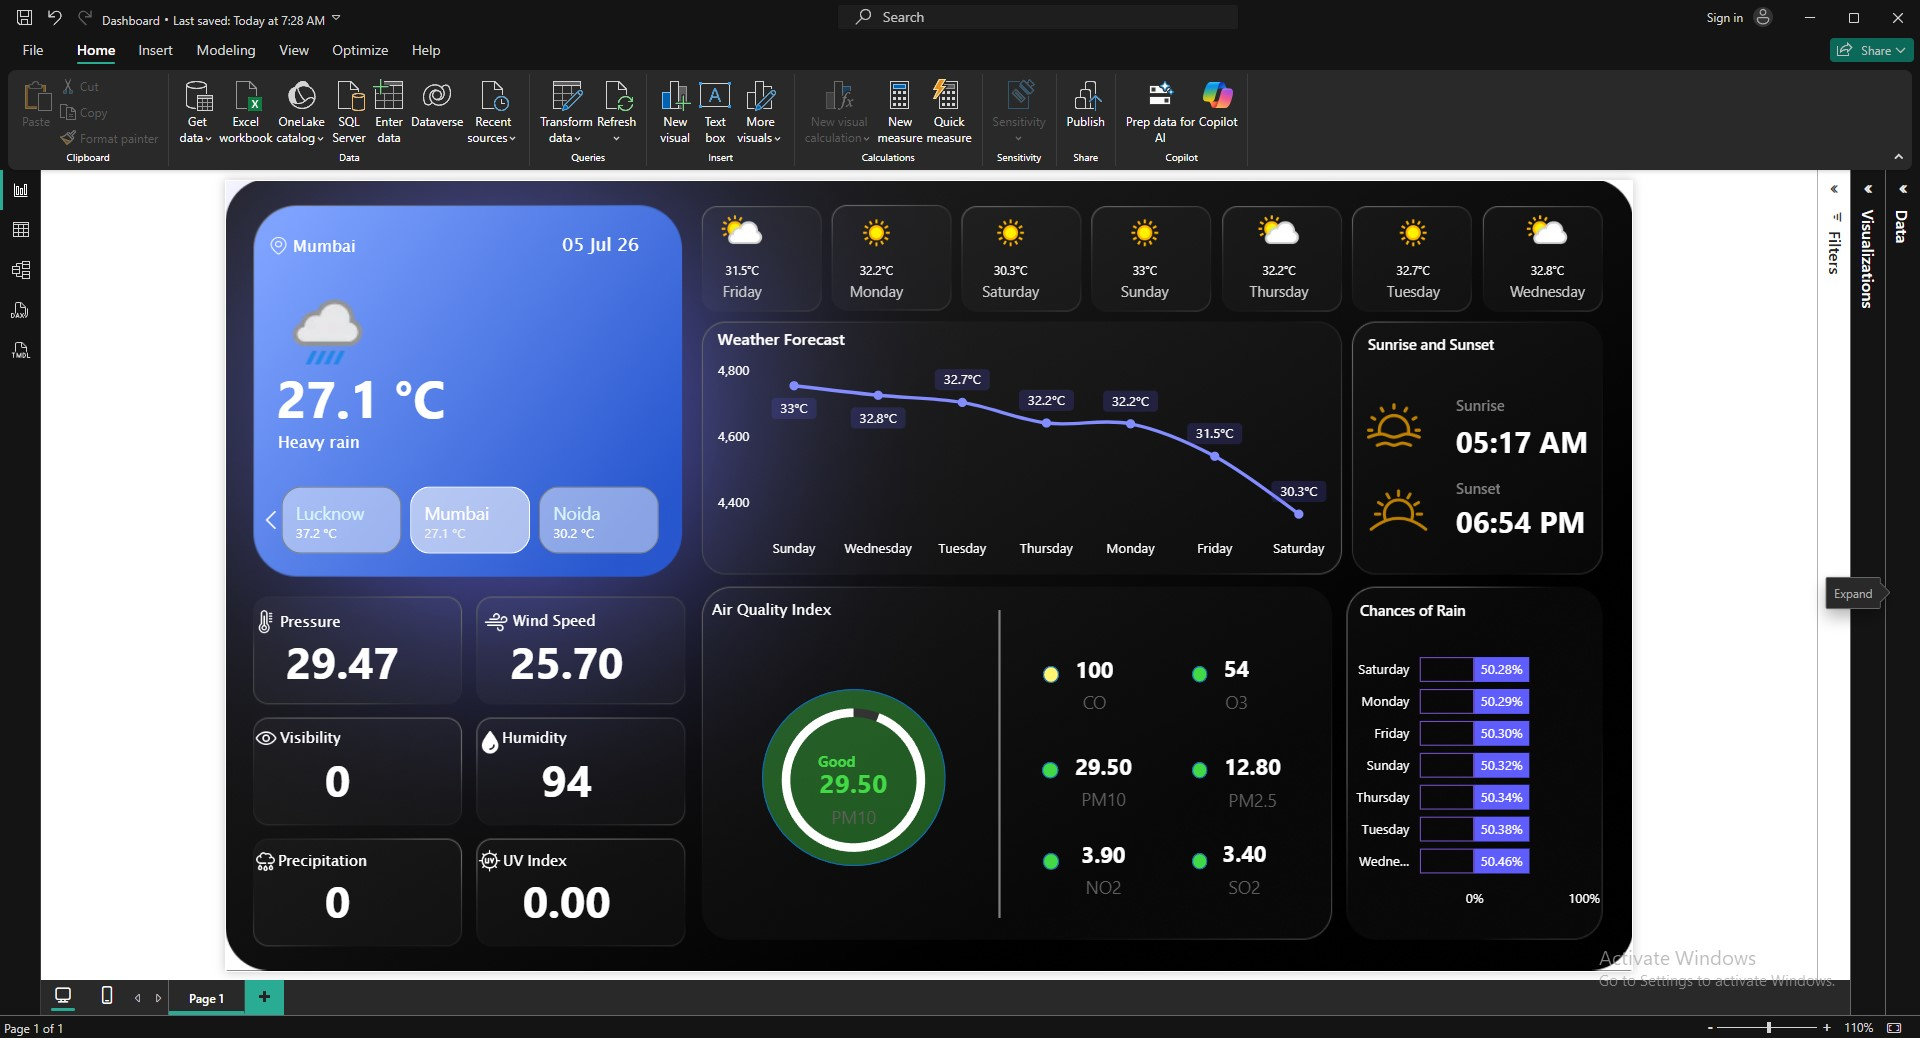

The page's visual inventory and layout, read from the dashboard file:
{"tool":"powerbi","page":{"name":"Page 1","canvas":[1280,720],"ordinal":0},"visuals":[{"type":"shape","box":[488,463,167,161],"z":0},{"type":"advancedSlicerVisual","fields":{"Values":["Current.location.name"]},"box":[26,274,394,71],"z":1000},{"type":"shape","box":[47.5,150,193.8,93.8],"z":2000},{"type":"shape","box":[47.8,222.2,281.1,34.4],"z":3000},{"type":"shape","box":[306.7,42.2,85.6,35.6],"z":4000},{"type":"shape","box":[62.2,43.3,281.1,34.4],"z":5000},{"type":"image","box":[37.9,52.1,20.7,16.4],"z":6000},{"type":"cardVisual","fields":{"Data":["Min(Current.current.condition.icon)"]},"box":[37.8,0,110,185.6],"z":7000},{"type":"image","box":[26.4,390,21.4,23.6],"z":8000},{"type":"shape","box":[50,384.4,61.1,35.6],"z":9000},{"type":"image","box":[235,390,22.1,23.6],"z":10000},{"type":"image","box":[230,499,21.9,23.8],"z":11000},{"type":"image","box":[26.7,495.7,21.9,23.3],"z":12000},{"type":"image","box":[26.4,607.9,21.4,23.6],"z":13000},{"type":"image","box":[230,607.6,21.4,23.3],"z":14000},{"type":"shape","box":[261.5,383.8,90.8,35.4],"z":15000},{"type":"shape","box":[251.5,490,90.8,35.4],"z":16000},{"type":"shape","box":[50,490,60.8,35.4],"z":17000},{"type":"shape","box":[252.3,601.5,90.8,35.4],"z":18000},{"type":"shape","box":[48.5,601.5,83.1,35.4],"z":19000},{"type":"card","fields":{"Values":["Sum(Current.current.pressure_in)"]},"box":[38.2,408.9,136.8,57.5],"z":20000},{"type":"card","fields":{"Values":["Sum(Current.current.wind_mph)"]},"box":[246.2,408.8,128.8,57.5],"z":21000},{"type":"card","fields":{"Values":["Sum(Current.current.vis_miles)"]},"box":[38.2,516.4,128.6,57.9],"z":22000},{"type":"card","fields":{"Values":["Sum(Current.current.humidity)"]},"box":[246.1,516.4,128.6,57.9],"z":23000},{"type":"card","fields":{"Values":["Sum(Current.current.uv)"]},"box":[246.8,626.1,128.6,57.9],"z":24000},{"type":"card","fields":{"Values":["Sum(Current.current.precip_in)"]},"box":[38.6,626.1,128.6,57.9],"z":25000},{"type":"advancedSlicerVisual","fields":{"Values":["Forecast_Day.Day_Name"]},"box":[408.2,20,856.4,115.5],"z":26000},{"type":"lineChart","title":"Weather Forecast","fields":{"Category":["Forecast_Day.Day_Name"],"Y":["Sum(Forecast_Day.forecast.forecastday.day.avgtemp_c)"]},"box":[442.7,133.6,569.1,219.1],"z":27000},{"type":"shape","box":[1038.8,131.2,160,36.2],"z":28000},{"type":"shape","box":[1118.8,216.2,125,41.2],"z":29000},{"type":"shape","box":[1118.8,290,122.5,40],"z":30000},{"type":"shape","box":[1118.8,187.5,161.2,35],"z":31000},{"type":"shape","box":[1118.9,262.6,161.1,34.7],"z":32000},{"type":"image","box":[1038.2,187.3,49.1,71.8],"z":33000},{"type":"image","box":[1032,259.5,69.5,82],"z":34000},{"type":"hundredPercentStackedBarChart","title":"Chances of Rain","fields":{"Category":["Forecast_Day.Day_Name"],"Y":["Sum(Forecast_Day.forecast.forecastday.day.daily_chance_of_rain)","_Measures.Left_value_Rainn"]},"box":[1011.8,409,243.4,262.5],"z":35000},{"type":"shape","box":[442.5,373.8,128.8,35],"z":36000},{"type":"card","fields":{"Values":["Sum(Current.current.air_quality.co)"]},"box":[750,423.6,80.9,66.4],"z":37000},{"type":"card","fields":{"Values":["Sum(Current.current.air_quality.o3)"]},"box":[879,424,81,66],"z":38000},{"type":"card","fields":{"Values":["Sum(Current.current.air_quality.pm10)"]},"box":[758.2,511.8,80.9,66.4],"z":39000},{"type":"card","fields":{"Values":["Sum(Current.current.air_quality.no2)"]},"box":[758.2,591.8,80.9,66.4],"z":40000},{"type":"card","fields":{"Values":["Sum(Current.current.air_quality.pm2_5)"]},"box":[894,512,81,67],"z":41000},{"type":"card","fields":{"Values":["Sum(Current.current.air_quality.so2)"]},"box":[886,592,81,66],"z":42000},{"type":"shape","box":[742.5,529.2,15,15],"z":43000},{"type":"shape","box":[743.6,441.8,14.5,15.5],"z":44000},{"type":"shape","box":[743.6,611.8,14.5,15.5],"z":45000},{"type":"shape","box":[879,529,14,15],"z":46000},{"type":"shape","box":[879,612,14,15],"z":47000},{"type":"shape","box":[879,442,14,15],"z":48000},{"type":"shape","box":[629,391,150,280],"z":49000},{"type":"card","fields":{"Values":["Sum(Current.current.air_quality.pm10)"]},"box":[531,526,81,66],"z":50000},{"type":"donutChart","fields":{"Y":["Sum(Current.current.air_quality.pm10)","_Measures.Left_value_PM10"]},"box":[462,459,219,173],"z":51000},{"type":"shape","box":[539,517,73,20],"z":52000},{"type":"shape","box":[1032.1,374.1,113.8,34.9],"z":52001}]}

Visuals, with their boxes on the page's 1280x720 design canvas (x1, y1, x2, y2). These are canvas units, not pixel positions in the 1920x1038 screenshot, which may show the page scaled, cropped or inside an application window:
shape: box(488, 463, 655, 624)
advancedSlicerVisual - Current.location.name: box(26, 274, 420, 345)
shape: box(48, 150, 241, 244)
shape: box(48, 222, 329, 257)
shape: box(307, 42, 392, 78)
shape: box(62, 43, 343, 78)
image: box(38, 52, 59, 68)
cardVisual - Min(Current.current.condition.icon): box(38, 0, 148, 186)
image: box(26, 390, 48, 414)
shape: box(50, 384, 111, 420)
image: box(235, 390, 257, 414)
image: box(230, 499, 252, 523)
image: box(27, 496, 49, 519)
image: box(26, 608, 48, 632)
image: box(230, 608, 251, 631)
shape: box(262, 384, 352, 419)
shape: box(252, 490, 342, 525)
shape: box(50, 490, 111, 525)
shape: box(252, 602, 343, 637)
shape: box(48, 602, 132, 637)
card - Sum(Current.current.pressure_in): box(38, 409, 175, 466)
card - Sum(Current.current.wind_mph): box(246, 409, 375, 466)
card - Sum(Current.current.vis_miles): box(38, 516, 167, 574)
card - Sum(Current.current.humidity): box(246, 516, 375, 574)
card - Sum(Current.current.uv): box(247, 626, 375, 684)
card - Sum(Current.current.precip_in): box(39, 626, 167, 684)
advancedSlicerVisual - Forecast_Day.Day_Name: box(408, 20, 1265, 136)
"Weather Forecast" lineChart: box(443, 134, 1012, 353)
shape: box(1039, 131, 1199, 167)
shape: box(1119, 216, 1244, 257)
shape: box(1119, 290, 1241, 330)
shape: box(1119, 188, 1280, 222)
shape: box(1119, 263, 1280, 297)
image: box(1038, 187, 1087, 259)
image: box(1032, 260, 1102, 342)
"Chances of Rain" hundredPercentStackedBarChart: box(1012, 409, 1255, 672)
shape: box(442, 374, 571, 409)
card - Sum(Current.current.air_quality.co): box(750, 424, 831, 490)
card - Sum(Current.current.air_quality.o3): box(879, 424, 960, 490)
card - Sum(Current.current.air_quality.pm10): box(758, 512, 839, 578)
card - Sum(Current.current.air_quality.no2): box(758, 592, 839, 658)
card - Sum(Current.current.air_quality.pm2_5): box(894, 512, 975, 579)
card - Sum(Current.current.air_quality.so2): box(886, 592, 967, 658)
shape: box(742, 529, 758, 544)
shape: box(744, 442, 758, 457)
shape: box(744, 612, 758, 627)
shape: box(879, 529, 893, 544)
shape: box(879, 612, 893, 627)
shape: box(879, 442, 893, 457)
shape: box(629, 391, 779, 671)
card - Sum(Current.current.air_quality.pm10): box(531, 526, 612, 592)
donutChart - Sum(Current.current.air_quality.pm10) x _Measures.Left_value_PM10: box(462, 459, 681, 632)
shape: box(539, 517, 612, 537)
shape: box(1032, 374, 1146, 409)
